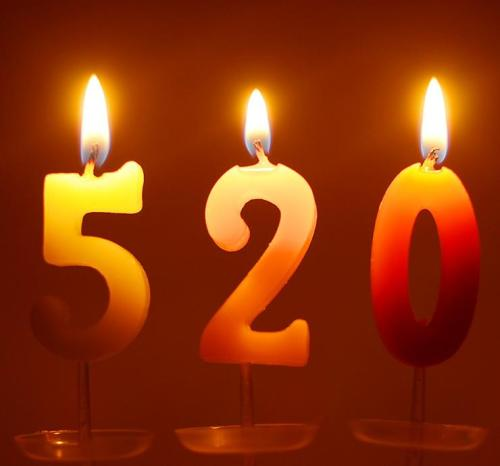Fire: (78, 74, 112, 169), (422, 71, 449, 168), (239, 85, 273, 159)
